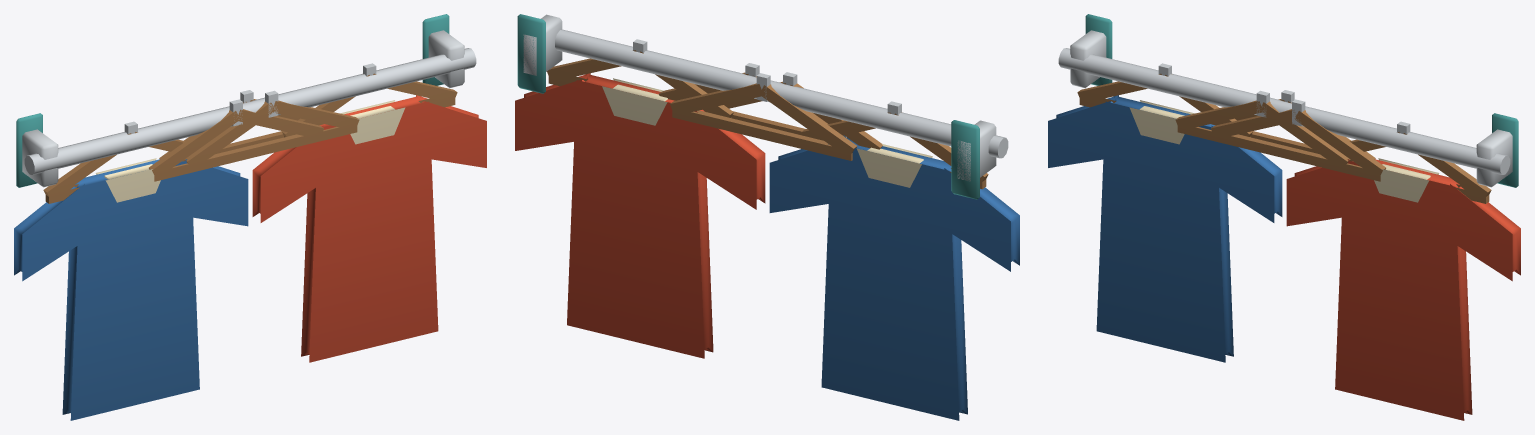
Rendered from HangingRod_Wall_10.glb.
3 views of the same model, side by side, from view 1: azimuth 30°, elevation 25°; view 2: azimuth 150°, elevation 25°; view 3: azimuth 330°, elevation 25° (orthographic). The views are drawn at different scales.
Visible parts, largest first — view 1: SM_HangingRod_Wall_10; view 2: SM_HangingRod_Wall_10; view 3: SM_HangingRod_Wall_10.
Part boxes in pixels (bbox=[...]): SM_HangingRod_Wall_10: bbox=[14, 14, 486, 420]; SM_HangingRod_Wall_10: bbox=[515, 14, 1019, 420]; SM_HangingRod_Wall_10: bbox=[1048, 14, 1520, 420].
Bounding box in the file's own units: 1.05 × 0.636 × 0.096.
Materials: 1 (1 with a texture image).
